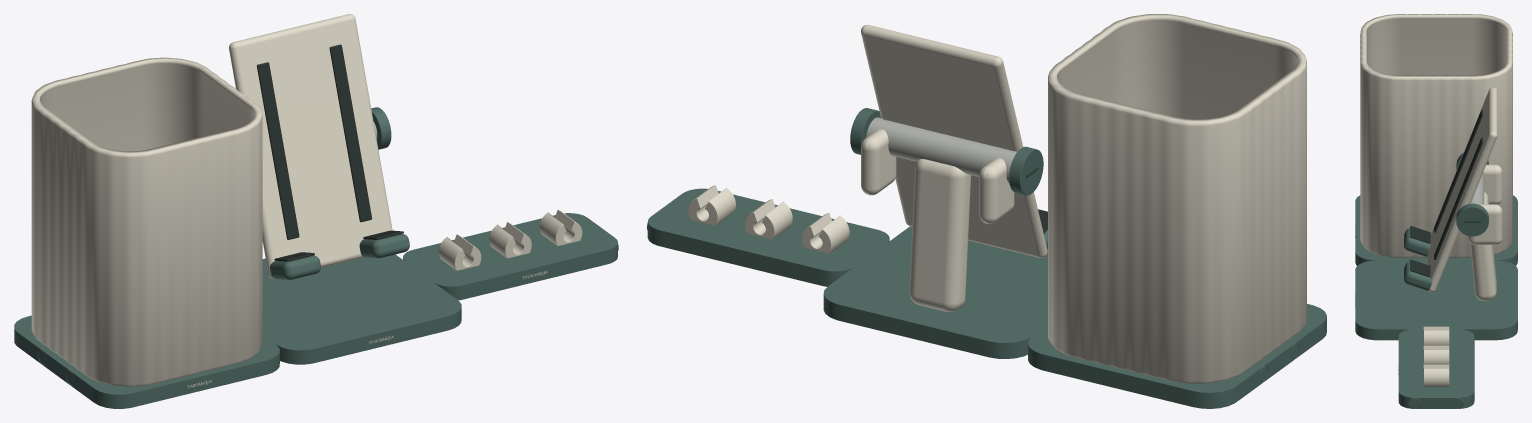
The model's file is yinxiangjia_trio_concept.glb.
The picture shows the model from 3 angles, left to right: view 1: azimuth 30°, elevation 25°; view 2: azimuth 150°, elevation 25°; view 3: azimuth 270°, elevation 25°; orthographic projection. The views are drawn at different scales.
Visible parts, largest first — view 1: PEN_Open_vessel_3mm_wall_CONCEPT.001, PHONE_Backplate_CONCEPT.001, PHONE_Base_housing.001, CABLE_Base_housing.001, PEN_Base_housing.001, PHONE_Grip_strip_CONCEPT.002, PHONE_Grip_strip_CONCEPT.003, CABLE_Open_snap_channel_CONCEPT.005, CABLE_Open_snap_channel_CONCEPT.003, CABLE_Open_snap_channel_CONCEPT.004, PHONE_Lower_support_lip_CONCEPT.002, PHONE_Lower_support_lip_CONCEPT.003 (+1 smaller); view 2: PEN_Open_vessel_3mm_wall_CONCEPT.001, PHONE_Backplate_CONCEPT.001, PHONE_Base_housing.001, CABLE_Base_housing.001, PHONE_Support_spine_CONCEPT.001, PEN_Base_housing.001, PHONE_Friction_axle_CONCEPT.001, PHONE_Pivot_ear_CONCEPT.003, PHONE_Pivot_ear_CONCEPT.002, CABLE_Open_snap_channel_CONCEPT.003, CABLE_Open_snap_channel_CONCEPT.004, CABLE_Open_snap_channel_CONCEPT.005 (+2 smaller); view 3: PEN_Open_vessel_3mm_wall_CONCEPT.001, PHONE_Base_housing.001, CABLE_Base_housing.001, PHONE_Backplate_CONCEPT.001, PEN_Base_housing.001, PHONE_Support_spine_CONCEPT.001, PHONE_Friction_knob_CONCEPT.003, PHONE_Pivot_ear_CONCEPT.003, PHONE_Pivot_ear_CONCEPT.002, CABLE_Open_snap_channel_CONCEPT.005, CABLE_Open_snap_channel_CONCEPT.003, CABLE_Open_snap_channel_CONCEPT.004 (+7 smaller).
Part boxes in pixels (x1,y1,x2,y2): PEN_Open_vessel_3mm_wall_CONCEPT.001: (31,57,262,386); PHONE_Backplate_CONCEPT.001: (229,14,392,279); PHONE_Base_housing.001: (262,254,461,364); CABLE_Base_housing.001: (403,213,617,300); PEN_Base_housing.001: (14,315,279,408); PHONE_Grip_strip_CONCEPT.002: (257,62,299,239); PHONE_Grip_strip_CONCEPT.003: (329,44,372,222); CABLE_Open_snap_channel_CONCEPT.005: (539,210,582,245); CABLE_Open_snap_channel_CONCEPT.003: (438,234,481,270); CABLE_Open_snap_channel_CONCEPT.004: (489,222,531,258); PHONE_Lower_support_lip_CONCEPT.002: (270,255,320,279); PHONE_Lower_support_lip_CONCEPT.003: (359,234,409,258); PEN_Open_vessel_3mm_wall_CONCEPT.001: (1048,14,1306,383); PHONE_Backplate_CONCEPT.001: (861,24,1047,257); PHONE_Base_housing.001: (823,226,1047,358); CABLE_Base_housing.001: (647,188,889,286); PHONE_Support_spine_CONCEPT.001: (909,159,971,311); PEN_Base_housing.001: (1028,304,1326,408); PHONE_Friction_axle_CONCEPT.001: (866,117,1017,183); PHONE_Pivot_ear_CONCEPT.003: (861,129,896,195); PHONE_Pivot_ear_CONCEPT.002: (979,158,1014,224); CABLE_Open_snap_channel_CONCEPT.003: (801,212,849,253); CABLE_Open_snap_channel_CONCEPT.004: (744,198,792,239); CABLE_Open_snap_channel_CONCEPT.005: (688,185,735,225); PEN_Open_vessel_3mm_wall_CONCEPT.001: (1360,14,1512,257); PHONE_Base_housing.001: (1355,260,1517,340); CABLE_Base_housing.001: (1398,329,1474,408); PHONE_Backplate_CONCEPT.001: (1427,87,1497,292); PEN_Base_housing.001: (1355,195,1517,265); PHONE_Support_spine_CONCEPT.001: (1470,192,1496,300); PHONE_Friction_knob_CONCEPT.003: (1456,203,1488,236); PHONE_Pivot_ear_CONCEPT.003: (1468,204,1502,244); PHONE_Pivot_ear_CONCEPT.002: (1483,164,1502,204); CABLE_Open_snap_channel_CONCEPT.005: (1423,364,1449,386); CABLE_Open_snap_channel_CONCEPT.003: (1423,326,1449,345); CABLE_Open_snap_channel_CONCEPT.004: (1423,345,1449,364).
Bounding box in the file's own units: 0.27 × 0.1211 × 0.0901.
